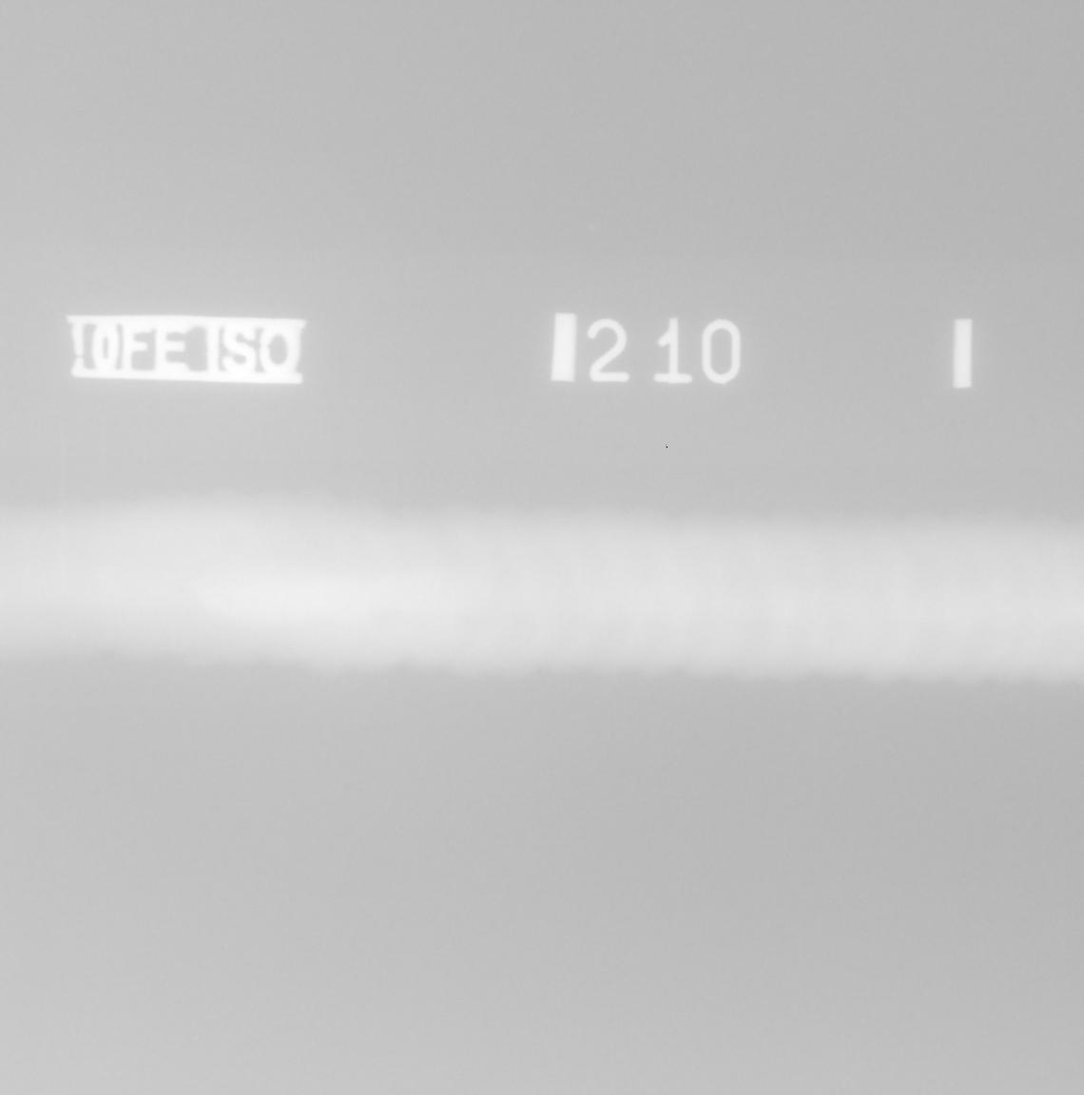Pore/Porosity: (398, 515, 403, 520)
